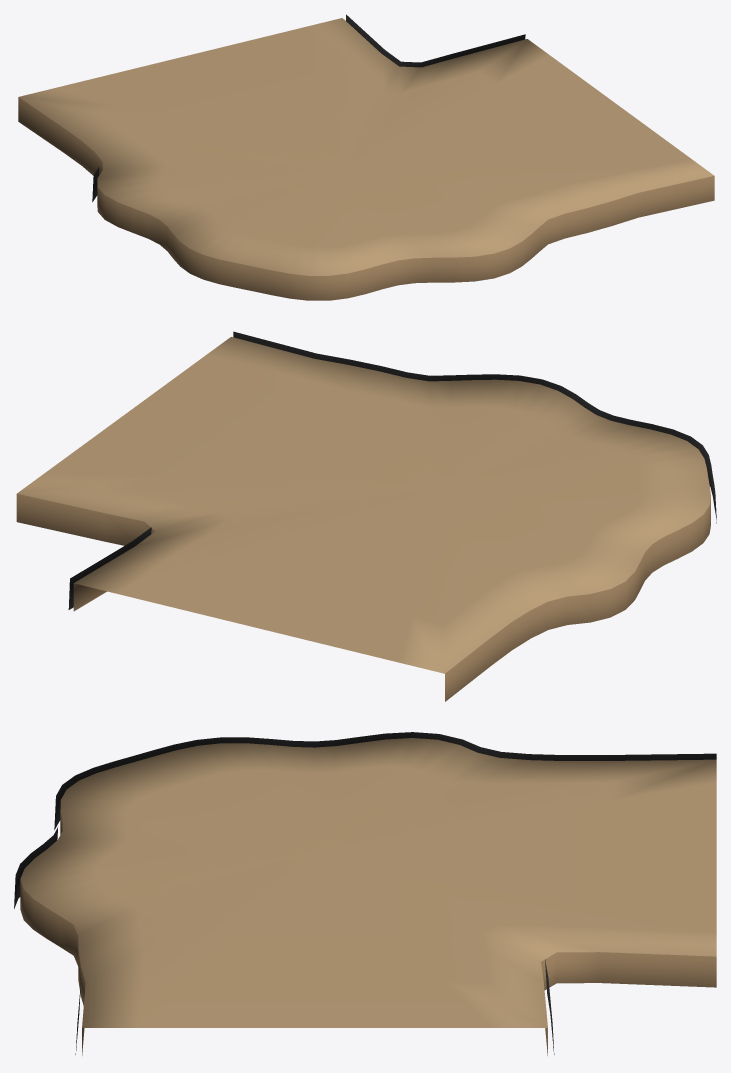
File: td_pathtile2.fbx
The picture shows the model from 3 angles, top to bottom: view 1: azimuth 30°, elevation 25°; view 2: azimuth 150°, elevation 25°; view 3: azimuth 270°, elevation 25°; orthographic projection. The views are drawn at different scales.
Visible parts, largest first — view 1: Path_Corner; view 2: Path_Corner; view 3: Path_Corner.
Boxes of the visible parts, x1,y1,x2,y2 form: Path_Corner: (18, 14, 714, 300); Path_Corner: (16, 331, 716, 701); Path_Corner: (14, 732, 716, 1055).
Size of the model in its own units: 172 by 11.7 by 175.
